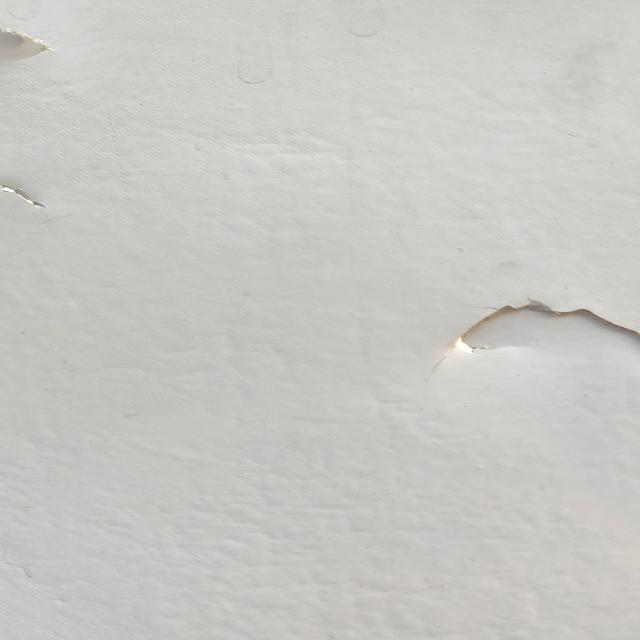Scratches: (431, 284, 640, 379), (1, 19, 62, 78), (1, 166, 62, 225)
